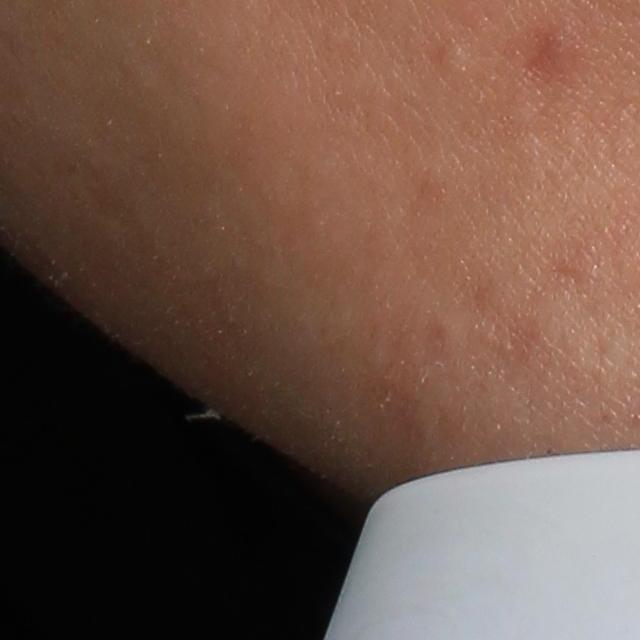comedo: (437, 40, 472, 80)
